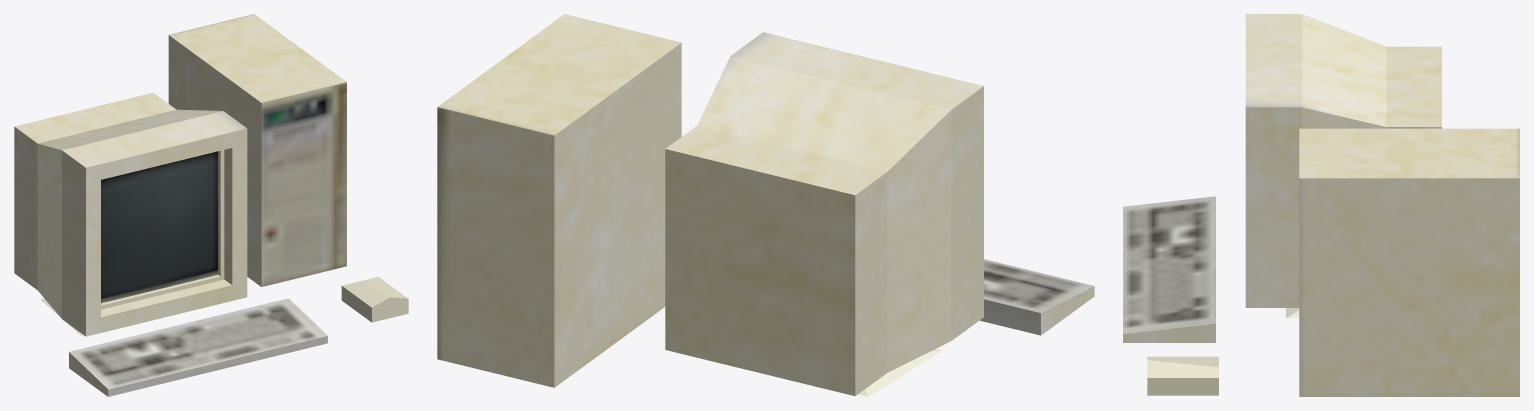
The model's file is Old Low Poly Computer.fbx.
The picture shows the model from 3 angles, left to right: view 1: azimuth 30°, elevation 25°; view 2: azimuth 150°, elevation 25°; view 3: azimuth 270°, elevation 25°; orthographic projection. The views are drawn at different scales.
Parts seen in each view (by area): view 1: Cube; view 2: Cube; view 3: Cube.
Boxes of the visible parts, box(x1,y1,x2,y2) form: Cube: box(14, 14, 408, 396); Cube: box(437, 14, 1094, 396); Cube: box(1123, 14, 1519, 396).
Bounding box in the file's own units: 191 × 108 × 177.
1 material, 1 textured.
